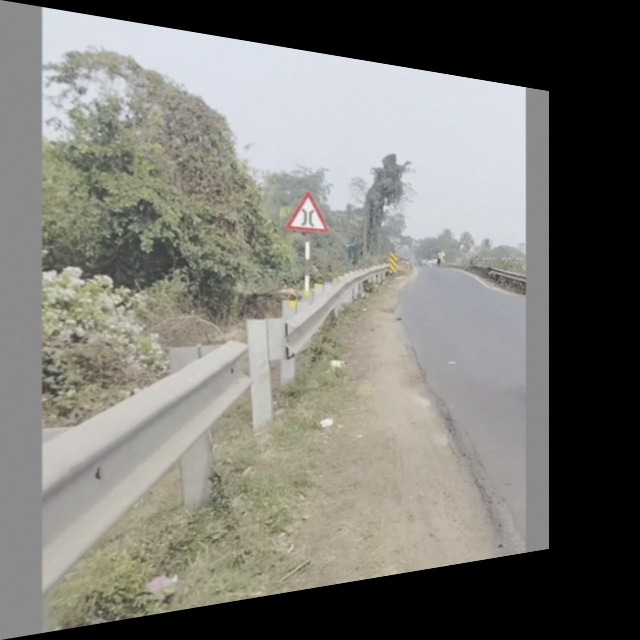Narrow_Bridge: (287, 189, 329, 234)
